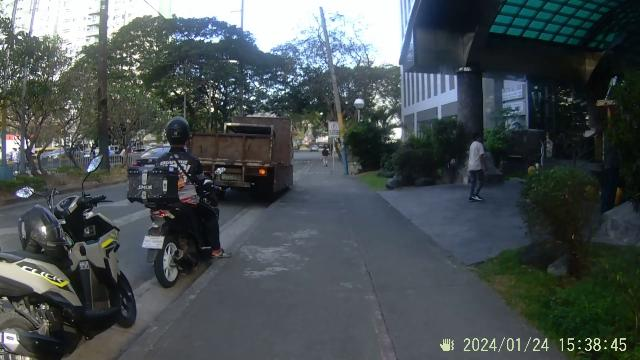car: (201, 100, 301, 200)
lamp_post: (348, 93, 368, 173)
motorcycle: (0, 172, 146, 350), (130, 120, 238, 288)
street_sign: (320, 116, 344, 174)
